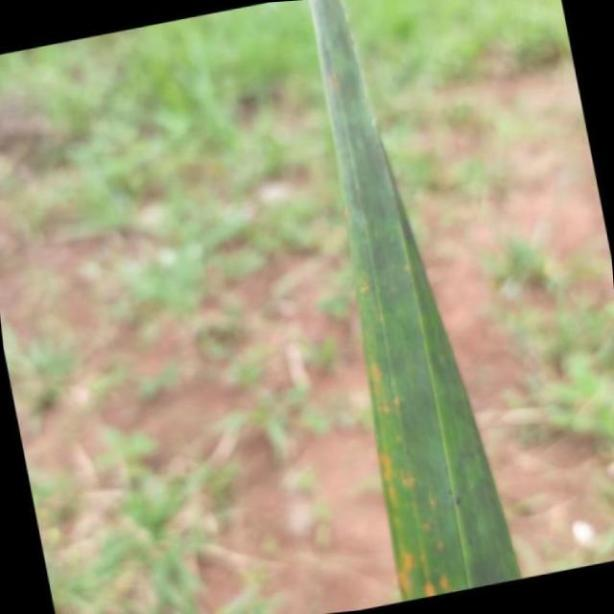Kalium: (315, 2, 526, 604)
